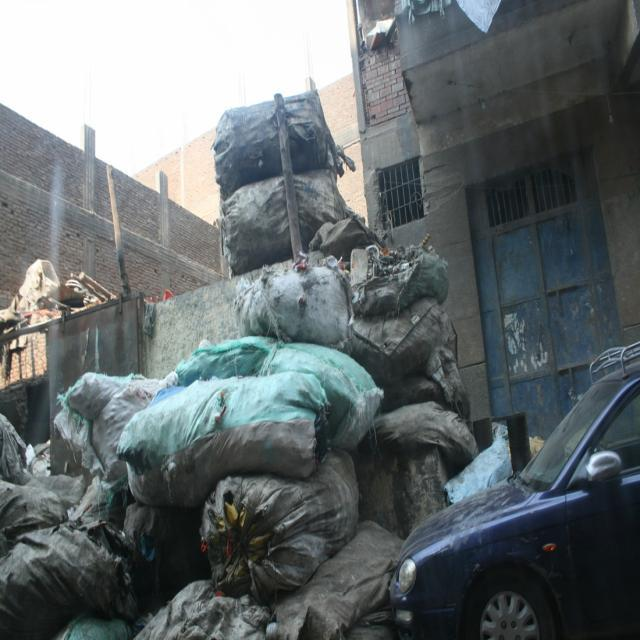garbage: (0, 233, 457, 640)
